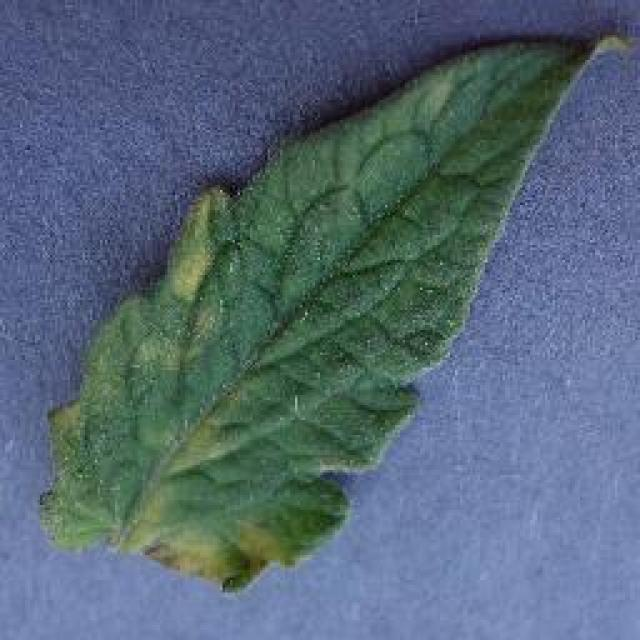leaf mold: (35, 35, 632, 590)
